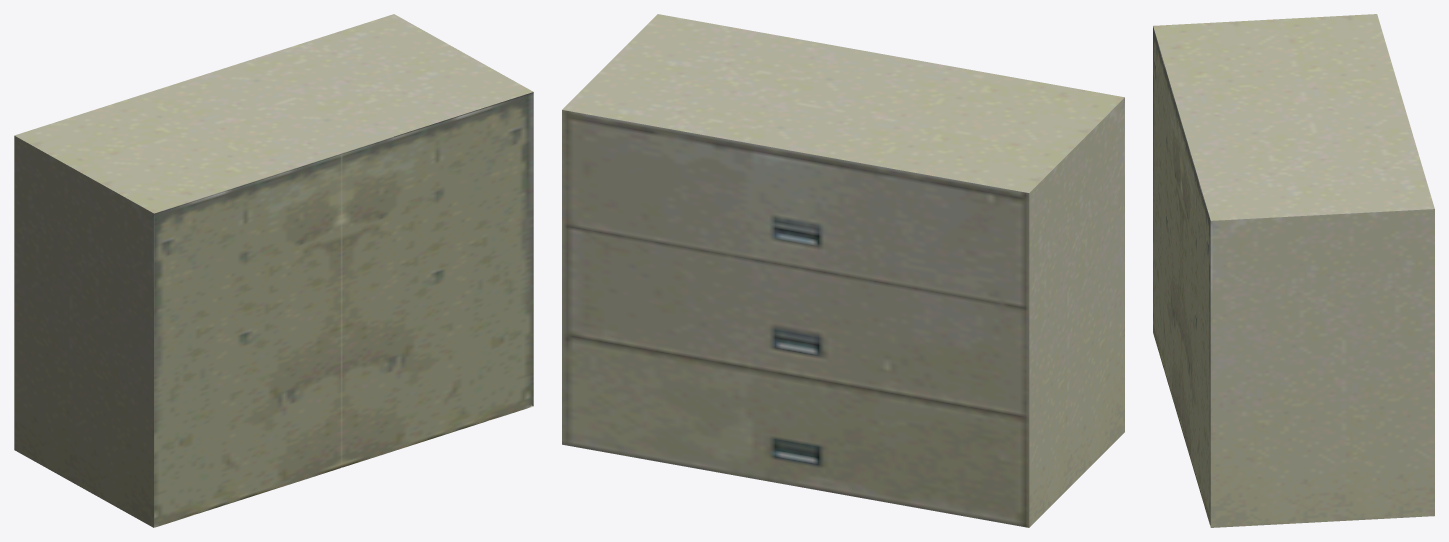
Rendered from filecabinet_larger.fbx.
The picture shows the model from 3 angles, left to right: view 1: azimuth 30°, elevation 25°; view 2: azimuth 150°, elevation 25°; view 3: azimuth 270°, elevation 25°; orthographic projection. The views are drawn at different scales.
Visible parts, largest first — view 1: file_cabinet_larger; view 2: file_cabinet_larger; view 3: file_cabinet_larger.
Part boxes in pixels (bbox=[...]): file_cabinet_larger: bbox=[14, 14, 533, 527]; file_cabinet_larger: bbox=[562, 14, 1124, 527]; file_cabinet_larger: bbox=[1153, 14, 1434, 527].
Size of the model in its own units: 152 by 105 by 87.27.
